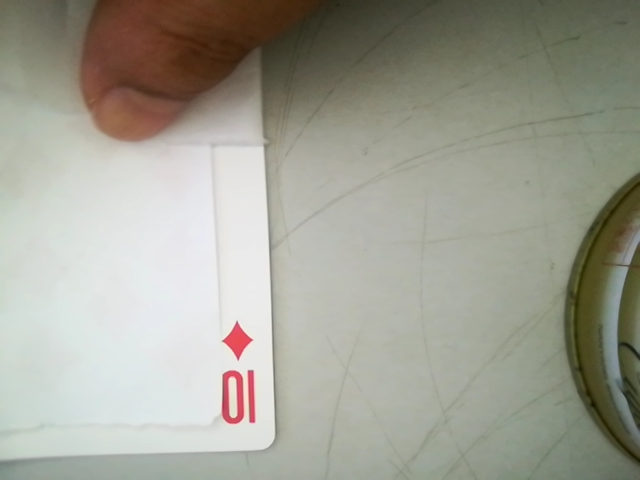fk 10: (204, 311, 270, 440)
